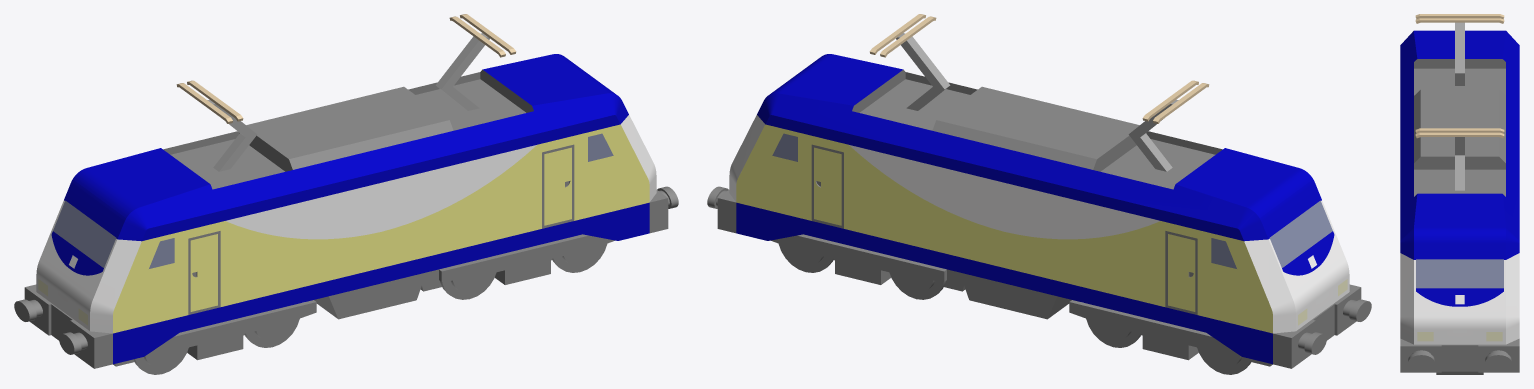
Rendered from scene_kTFN1Xz4aE.glb.
3 renders of one model, left to right at view 1: azimuth 30°, elevation 25°; view 2: azimuth 150°, elevation 25°; view 3: azimuth 270°, elevation 25°, orthographic. The views are drawn at different scales.
Visible parts, largest first — view 1: Component_2_ID538, Component_2_ID390_1, Component_2_ID460, Component_2_ID302_1, Component_2_ID520, Component_2_ID372_1, Component_2_ID366_1, Component_2_ID514, Component_2_ID478, Component_2_ID326_1, Component_2_ID478_1, Component_2_ID326 (+24 smaller); view 2: Component_2_ID390, Component_2_ID538_1, Component_2_ID302, Component_2_ID460_1, Component_2_ID372, Component_2_ID520_1, Component_2_ID514_1, Component_2_ID366, Component_2_ID326, Component_2_ID478_1, Component_2_ID326_1, Component_2_ID478 (+24 smaller); view 3: Component_2_ID302_1, Component_2_ID460_1, Component_2_ID310_1, Component_2_ID466_1, Component_2_ID326, Component_2_ID478, Component_2_ID326_1, Component_2_ID478_1, Component_2_ID302, Component_2_ID460, Component_2_ID274_1, Component_2_ID436_1 (+20 smaller).
Boxes of the visible parts, x1=… form: Component_2_ID538: x1=113, y1=221, x2=381, y2=333; Component_2_ID390_1: x1=381, y1=124, x2=649, y2=267; Component_2_ID460: x1=91, y1=150, x2=381, y2=241; Component_2_ID302_1: x1=373, y1=73, x2=628, y2=182; Component_2_ID520: x1=226, y1=183, x2=381, y2=239; Component_2_ID372_1: x1=381, y1=145, x2=536, y2=231; Component_2_ID366_1: x1=381, y1=202, x2=649, y2=283; Component_2_ID514: x1=113, y1=268, x2=381, y2=364; Component_2_ID478: x1=197, y1=123, x2=372, y2=189; Component_2_ID326_1: x1=347, y1=88, x2=533, y2=150; Component_2_ID478_1: x1=324, y1=69, x2=507, y2=122; Component_2_ID326: x1=163, y1=106, x2=345, y2=174; Component_2_ID390: x1=1004, y1=221, x2=1272, y2=333; Component_2_ID538_1: x1=736, y1=124, x2=1004, y2=267; Component_2_ID302: x1=1004, y1=150, x2=1294, y2=241; Component_2_ID460_1: x1=757, y1=73, x2=1012, y2=182; Component_2_ID372: x1=1004, y1=183, x2=1159, y2=239; Component_2_ID520_1: x1=849, y1=145, x2=1004, y2=231; Component_2_ID514_1: x1=736, y1=202, x2=1004, y2=283; Component_2_ID366: x1=1004, y1=268, x2=1272, y2=364; Component_2_ID326: x1=1013, y1=123, x2=1188, y2=189; Component_2_ID478_1: x1=852, y1=88, x2=1038, y2=150; Component_2_ID326_1: x1=878, y1=69, x2=1061, y2=122; Component_2_ID478: x1=1040, y1=106, x2=1222, y2=174; Component_2_ID302_1: x1=1400, y1=130, x2=1459, y2=259; Component_2_ID460_1: x1=1460, y1=130, x2=1519, y2=259; Component_2_ID310_1: x1=1400, y1=253, x2=1459, y2=344; Component_2_ID466_1: x1=1460, y1=253, x2=1519, y2=344; Component_2_ID326: x1=1460, y1=59, x2=1505, y2=129; Component_2_ID478: x1=1414, y1=59, x2=1459, y2=129; Component_2_ID326_1: x1=1414, y1=123, x2=1459, y2=196; Component_2_ID478_1: x1=1460, y1=123, x2=1505, y2=196; Component_2_ID302: x1=1465, y1=30, x2=1519, y2=142; Component_2_ID460: x1=1400, y1=30, x2=1454, y2=142; Component_2_ID274_1: x1=1400, y1=338, x2=1459, y2=372; Component_2_ID436_1: x1=1460, y1=338, x2=1519, y2=372.
Bounding box in the file's own units: 8.58 × 3.24 × 1.71.
